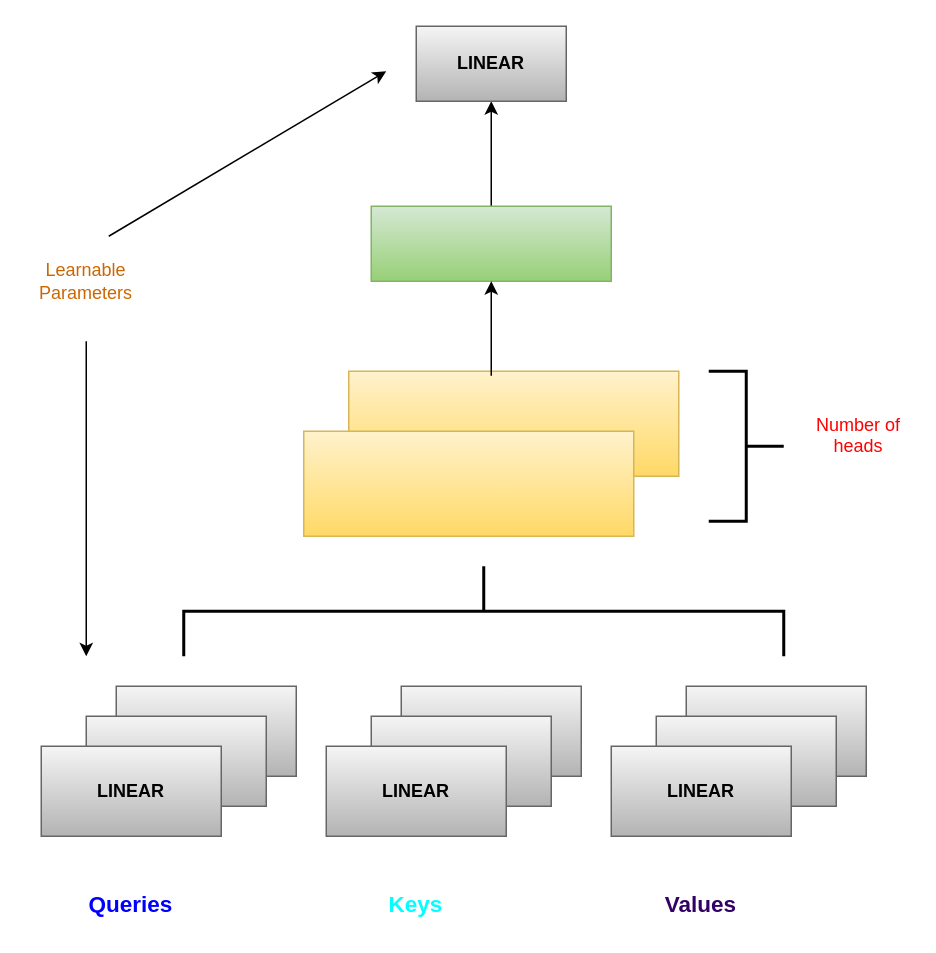
Image size: 936x953. Some labels were removed from this diagram. The centre of each missing label's shape, as x and y in pixels:
CONCATENATION: point 490,243
SCALED DOT-PRODUCT ATTENTION: point 468,483
